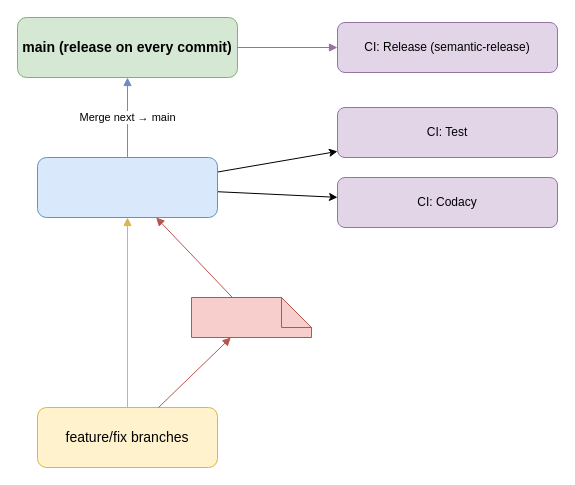
Image size: 575x485. Some labels were removed from this diagram. Here are the shapes that lost their labels. From the top down, the centre of each, then its label:
(127,187): next (integration)
(251,317): PR to next
